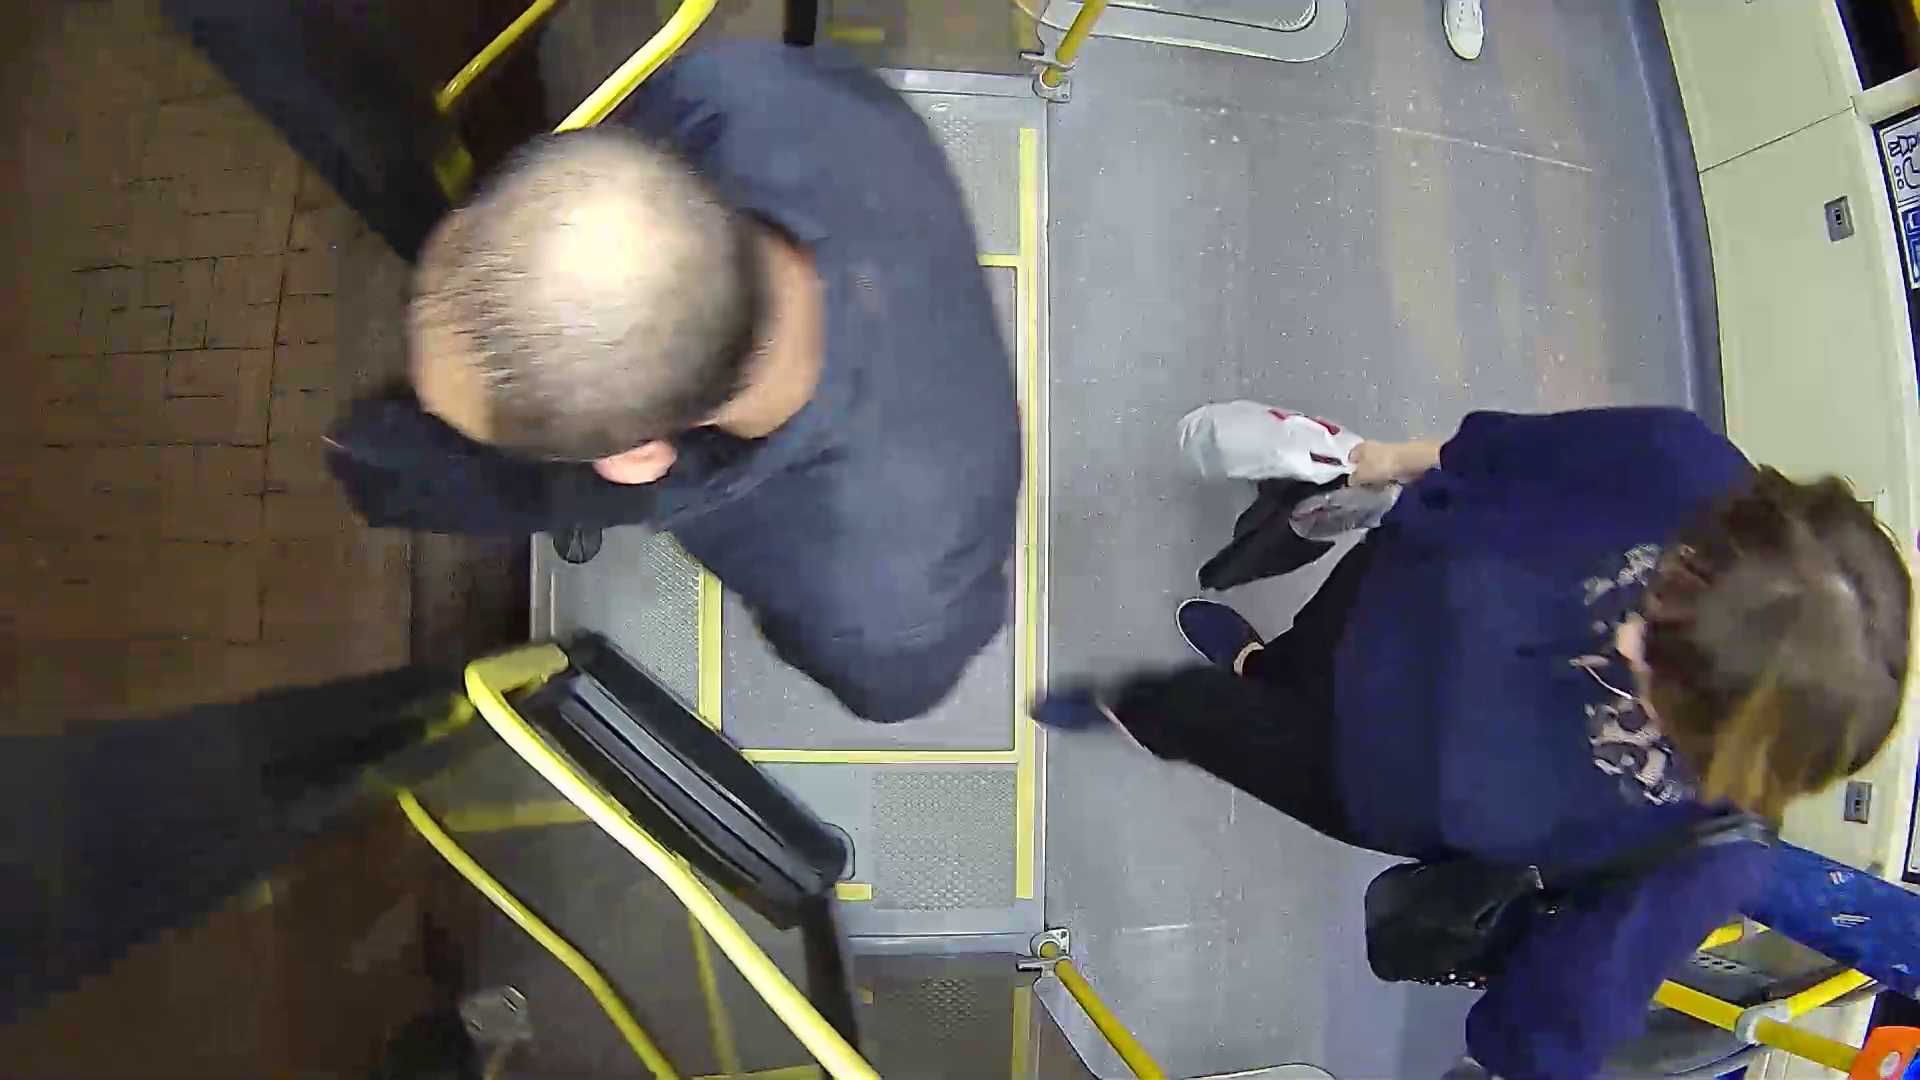person: (1224, 301, 1900, 940), (406, 56, 1025, 709)
